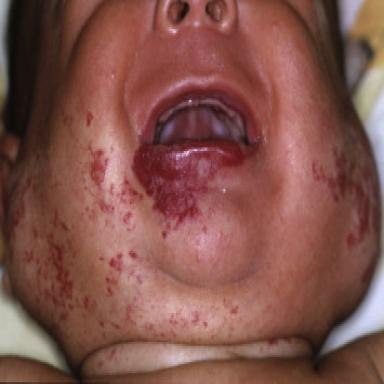Hemangiome: (133, 145, 205, 224)
